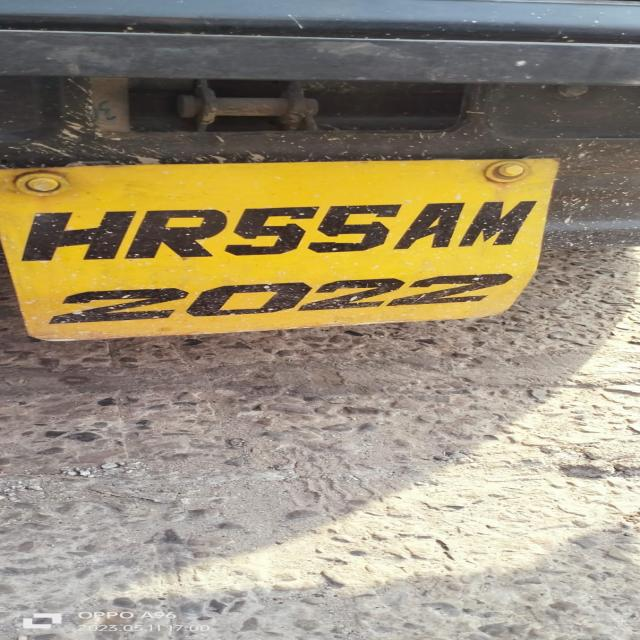License-plate: (9, 173, 548, 332)
